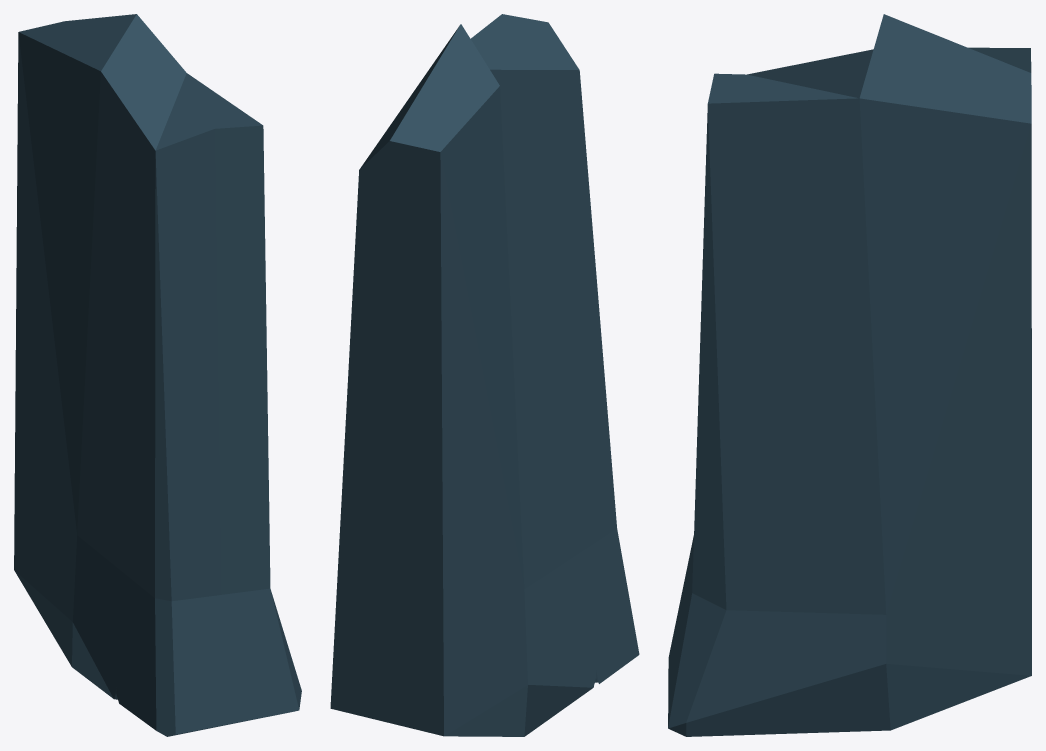
File: medium-rock-block.fbx
3 renders of one model, left to right at view 1: azimuth 30°, elevation 25°; view 2: azimuth 150°, elevation 25°; view 3: azimuth 270°, elevation 25°, orthographic. The views are drawn at different scales.
Visible parts, largest first — view 1: stone-brick04.007; view 2: stone-brick04.007; view 3: stone-brick04.007.
Part boxes in pixels (x1,y1,x2,y2): stone-brick04.007: [14, 14, 301, 736]; stone-brick04.007: [330, 14, 639, 736]; stone-brick04.007: [668, 14, 1031, 736].
Bounding box in the file's own units: 147 × 625 × 298.
